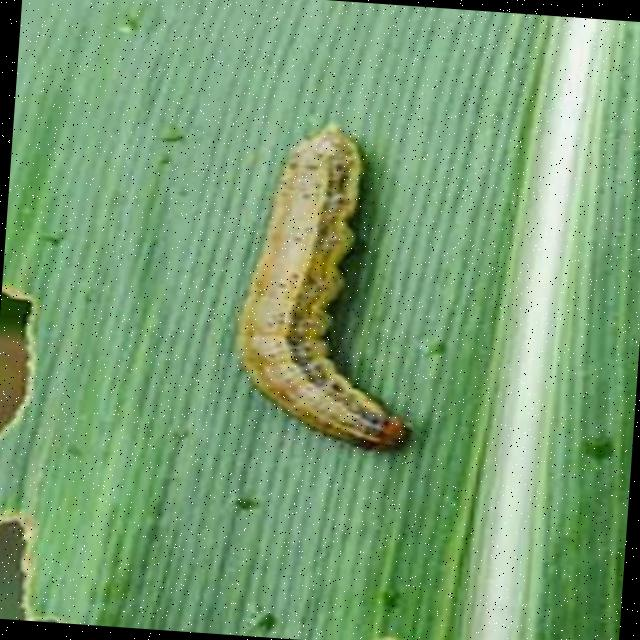worm: (231, 115, 436, 455)
